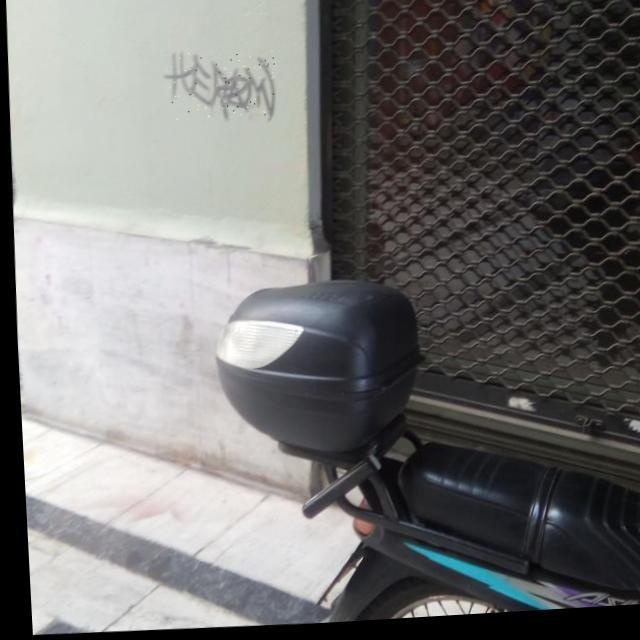-: (165, 50, 277, 126)
